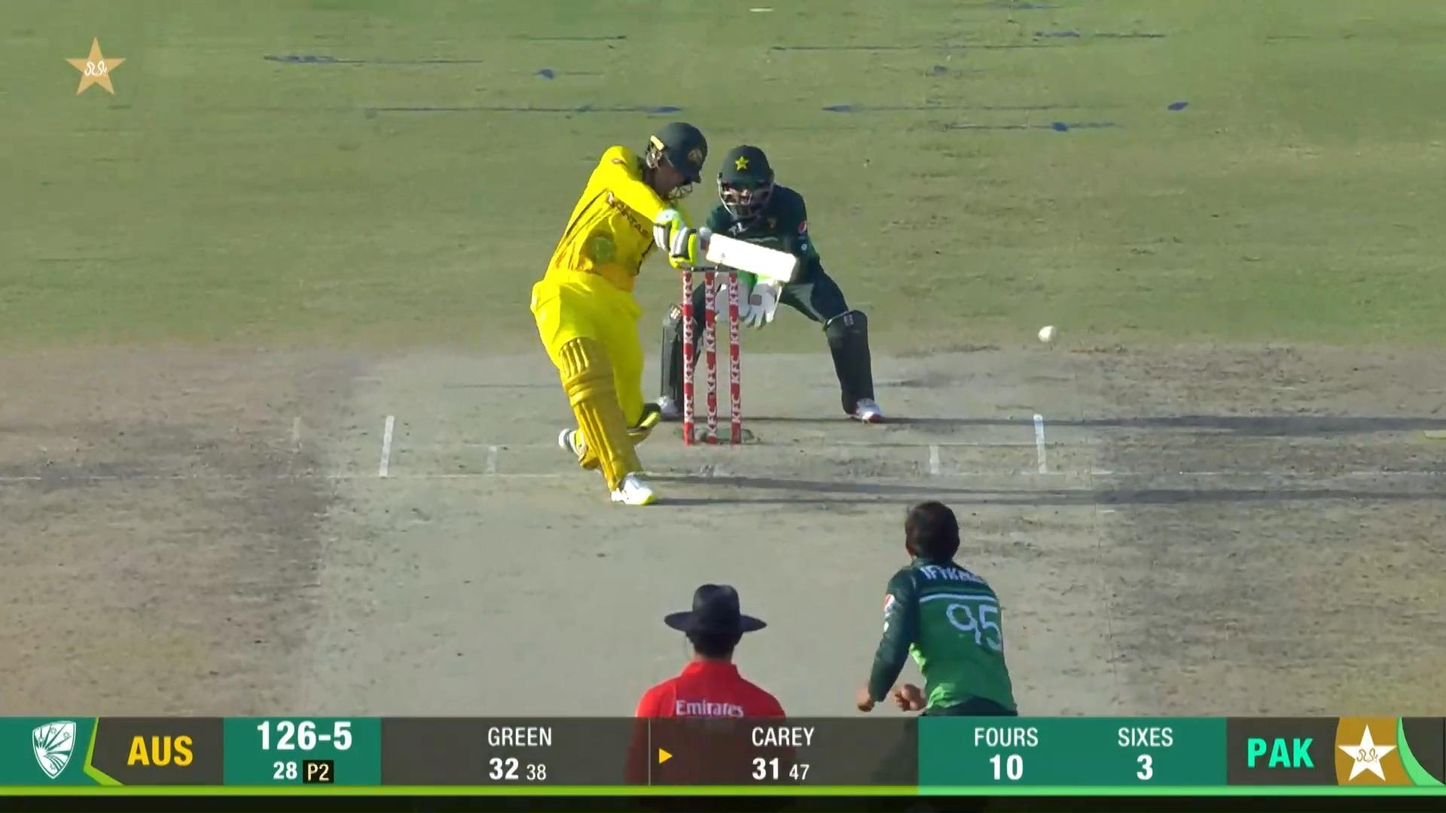BM 1: (529, 119, 802, 509)
BO: (855, 499, 1019, 717)
